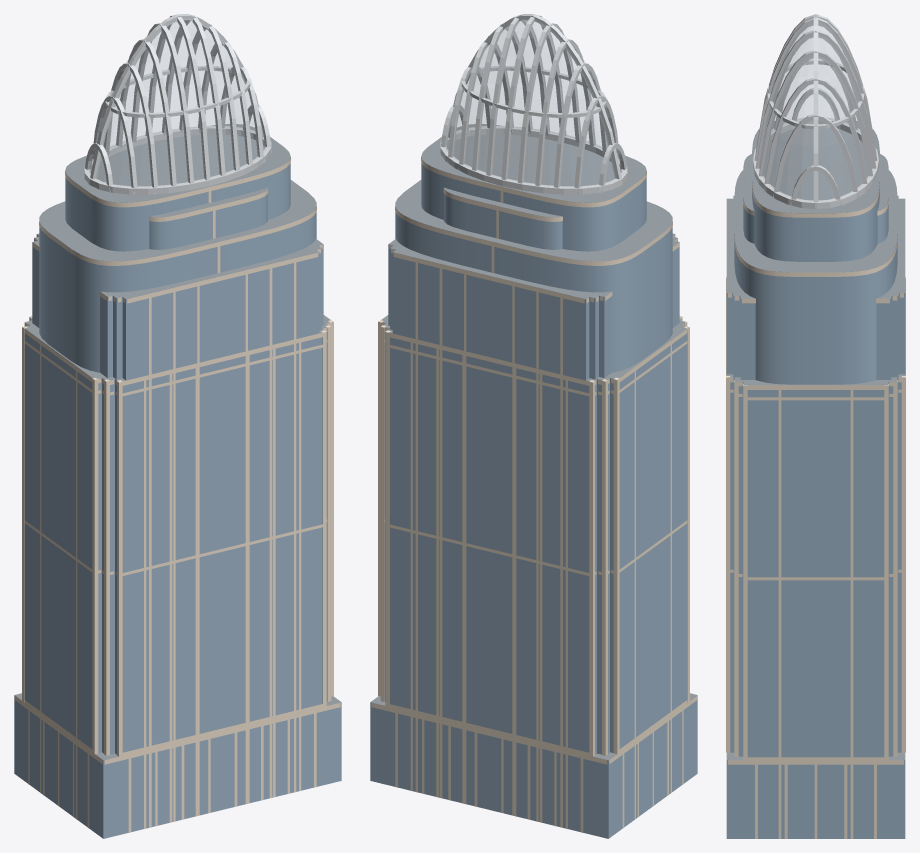
The model's file is cin-great-american-tower.glb.
3 renders of one model, left to right at view 1: azimuth 30°, elevation 25°; view 2: azimuth 150°, elevation 25°; view 3: azimuth 270°, elevation 25°, orthographic.
Parts seen in each view (by area): view 1: Great American Tower at Queen City Square; view 2: Great American Tower at Queen City Square; view 3: Great American Tower at Queen City Square.
Part boxes in pixels (<box>): Great American Tower at Queen City Square: <box>14,14,341,838</box>; Great American Tower at Queen City Square: <box>370,14,697,838</box>; Great American Tower at Queen City Square: <box>726,14,905,838</box>.
Size of the model in its own units: 66.9 by 204 by 43.5.
